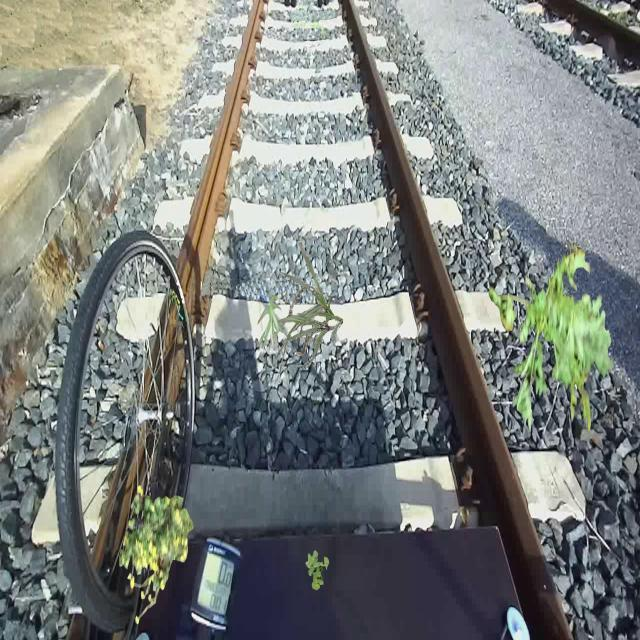Plant: (489, 240, 614, 436), (119, 485, 194, 625), (270, 242, 343, 366), (257, 294, 284, 351), (306, 550, 330, 591)
